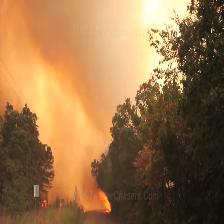fire: (86, 174, 121, 217)
smoke: (2, 0, 155, 181)
